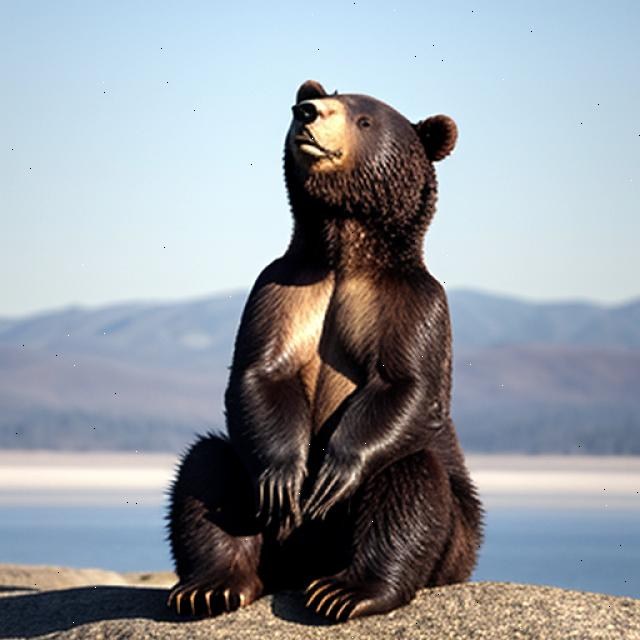bear: (222, 64, 465, 294)
